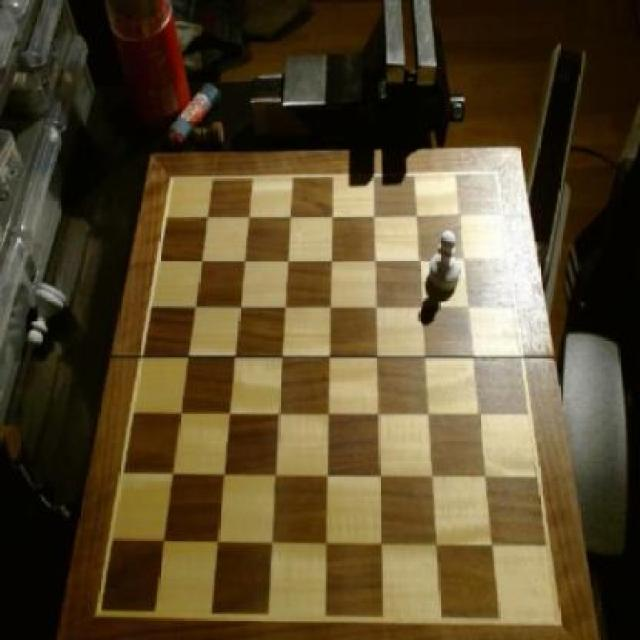white-knight: (425, 231, 463, 300)
